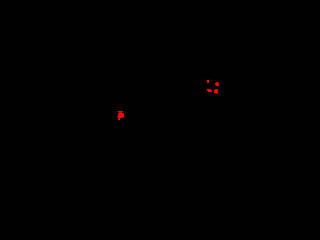Target: (117, 111, 124, 120), (214, 89, 218, 94), (215, 82, 219, 86), (207, 89, 212, 92), (207, 80, 209, 83)
